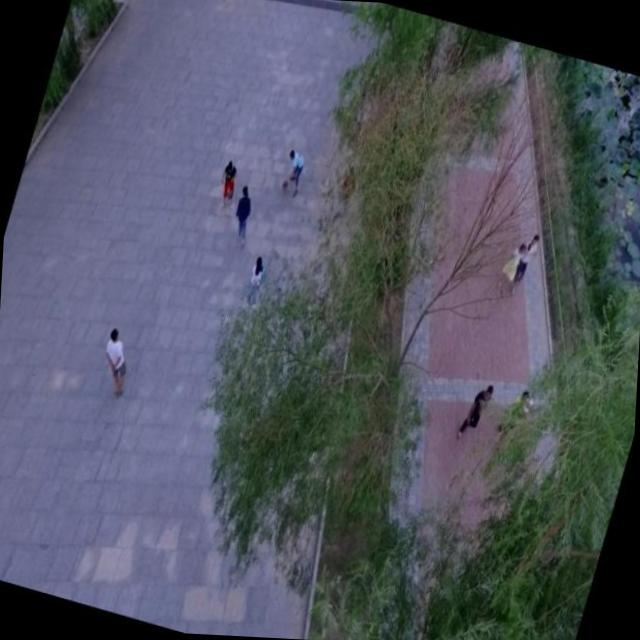person: (91, 322, 140, 402), (506, 227, 543, 300), (456, 378, 496, 444), (275, 142, 311, 204), (239, 250, 274, 312), (212, 154, 246, 217), (228, 182, 260, 242)
